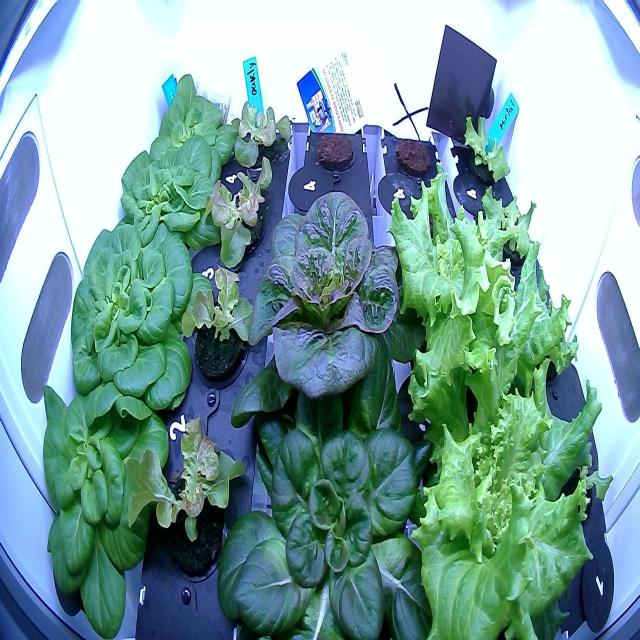Ready: (210, 314, 465, 640)
pod: (313, 119, 358, 181), (391, 126, 436, 185)
young: (27, 365, 174, 639), (56, 202, 215, 425), (103, 120, 231, 276), (144, 67, 244, 188)
